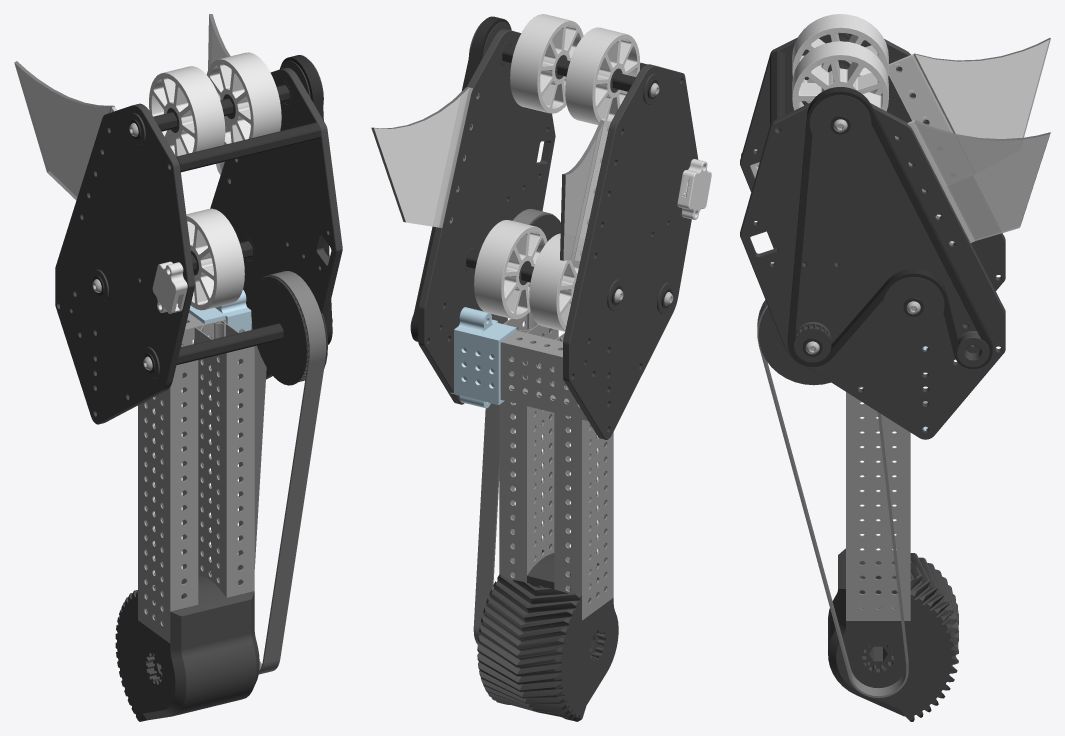
3 views of the same model, side by side, from view 1: azimuth 30°, elevation 25°; view 2: azimuth 150°, elevation 25°; view 3: azimuth 270°, elevation 25° (orthographic). The views are drawn at different scales.
Parts seen in each view (by area): view 1: claw plate right, Tube 2"x1"x9.5" (×2), claw plate left, Wrist Gear, am-3946 3IN 500Hex Molded Compliant Wheel VER 2 (×3), 160T HTD Belt, Part 29, Shaft (×3), 54T Custom Pulley, Part 27, 150T 5M 9mm Wide DS Belt, LASER CAN Case Rev 1 Bottom (+1 smaller); view 2: claw plate right, Tube 2"x1"x9.5" (×2), claw plate left, am-3946 3IN 500Hex Molded Compliant Wheel VER 2 (×4), Wrist Gear, Part 28, Tube 2"x1"x5", Part 27, 160T HTD Belt, Part 29, 150T 5M 9mm Wide DS Belt, Shaft (×2) (+1 smaller); view 3: claw plate left, Wrist Gear, Tube 2"x1"x9.5", Part 29, Part 28, 150T 5M 9mm Wide DS Belt, am-3946 3IN 500Hex Molded Compliant Wheel VER 2 (×2), 30T HTD Custom Pulley (×2), claw plate right, 160T HTD Belt, 54T Custom Pulley, Shaft (+2 smaller).
Boxes of the visible parts, x1,y1,x2,y2 form: claw plate right: [55, 103, 195, 424]; Tube 2"x1"x9.5" (×2): [138, 320, 254, 643]; claw plate left: [210, 67, 342, 379]; Wrist Gear: [115, 571, 259, 721]; am-3946 3IN 500Hex Molded Compliant Wheel VER 2 (×3): [149, 52, 281, 310]; 160T HTD Belt: [237, 271, 326, 674]; Part 29: [14, 61, 116, 200]; Shaft (×3): [129, 85, 332, 373]; 54T Custom Pulley: [251, 276, 327, 385]; Part 27: [189, 290, 251, 383]; 150T 5M 9mm Wide DS Belt: [280, 55, 332, 344]; LASER CAN Case Rev 1 Bottom: [152, 263, 180, 313]; claw plate right: [563, 64, 698, 439]; Tube 2"x1"x9.5" (×2): [499, 311, 613, 620]; claw plate left: [418, 29, 555, 404]; am-3946 3IN 500Hex Molded Compliant Wheel VER 2 (×4): [474, 14, 640, 331]; Wrist Gear: [477, 550, 618, 721]; Part 28: [371, 87, 479, 227]; Tube 2"x1"x5": [463, 330, 587, 420]; Part 27: [450, 307, 516, 408]; 160T HTD Belt: [473, 209, 555, 644]; Part 29: [560, 120, 611, 260]; 150T 5M 9mm Wide DS Belt: [411, 16, 511, 341]; Shaft (×2): [466, 45, 659, 305]; claw plate left: [740, 102, 1005, 439]; Wrist Gear: [828, 548, 958, 721]; Tube 2"x1"x9.5": [846, 387, 910, 620]; Part 29: [888, 38, 1050, 138]; Part 28: [895, 120, 1050, 245]; 150T 5M 9mm Wide DS Belt: [787, 87, 992, 369]; am-3946 3IN 500Hex Molded Compliant Wheel VER 2 (×2): [792, 14, 888, 111]; 30T HTD Custom Pulley (×2): [809, 95, 944, 333]; claw plate right: [740, 33, 1005, 324]; 160T HTD Belt: [757, 300, 908, 697]; 54T Custom Pulley: [758, 307, 830, 385]; Shaft: [770, 50, 786, 129].
Bounding box in the file's own units: 0.1794 × 0.581 × 0.2447.
